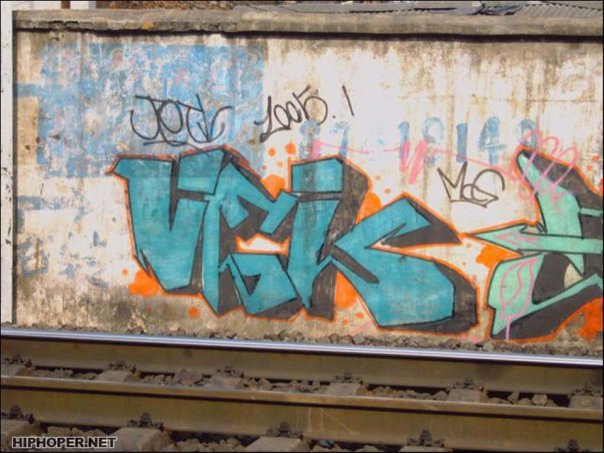graffity: (105, 144, 481, 339), (462, 141, 602, 347), (122, 76, 357, 154), (388, 113, 541, 213)
